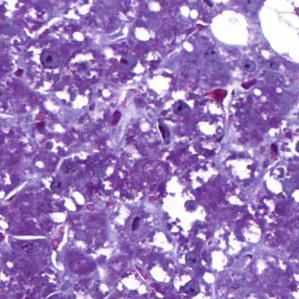ballooning: (255, 3, 296, 66), (203, 7, 256, 51)
